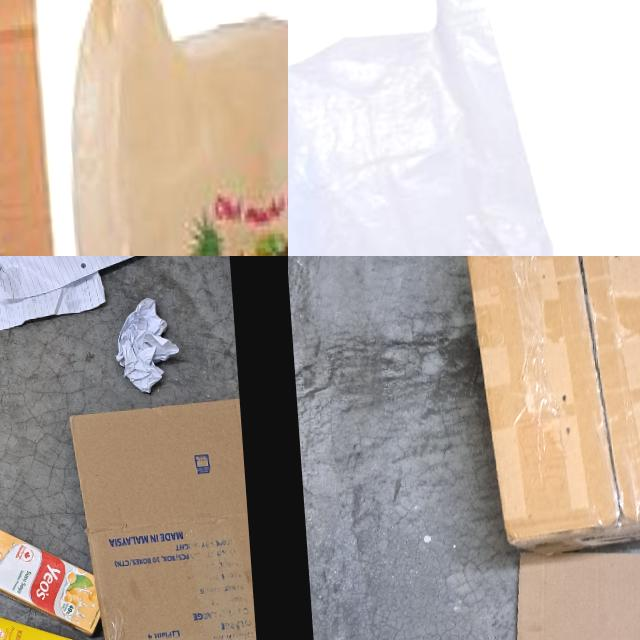caixinha: (0, 523, 102, 640), (0, 605, 111, 640)
papel: (115, 291, 182, 394)
papelão: (450, 256, 640, 557), (65, 397, 259, 640), (491, 537, 640, 640)
sacola plástica: (288, 0, 593, 256), (46, 0, 288, 256), (0, 0, 77, 256)
